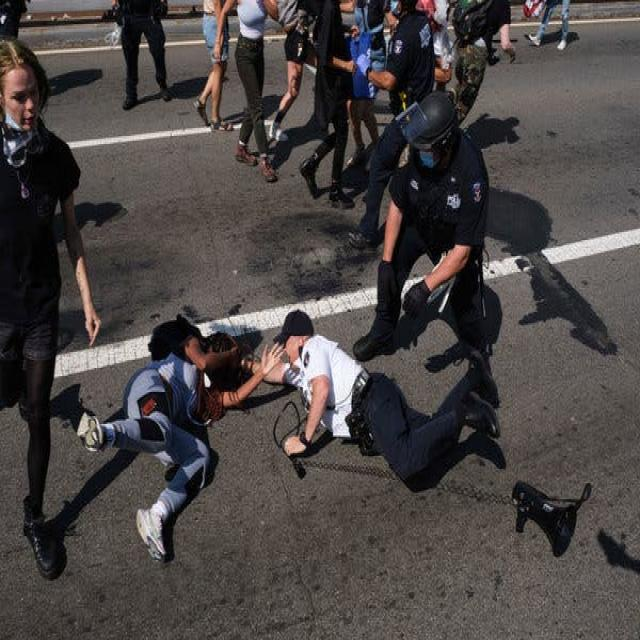police: (238, 287, 496, 497), (343, 84, 505, 395)
